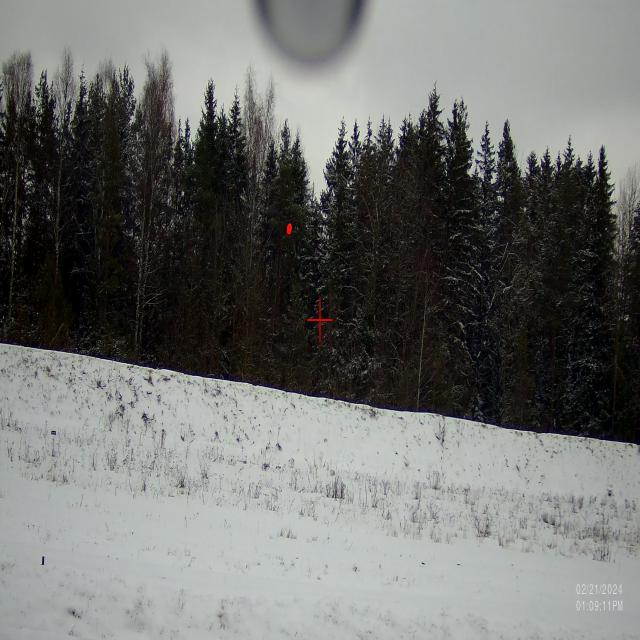entire: (281, 217, 295, 240)
